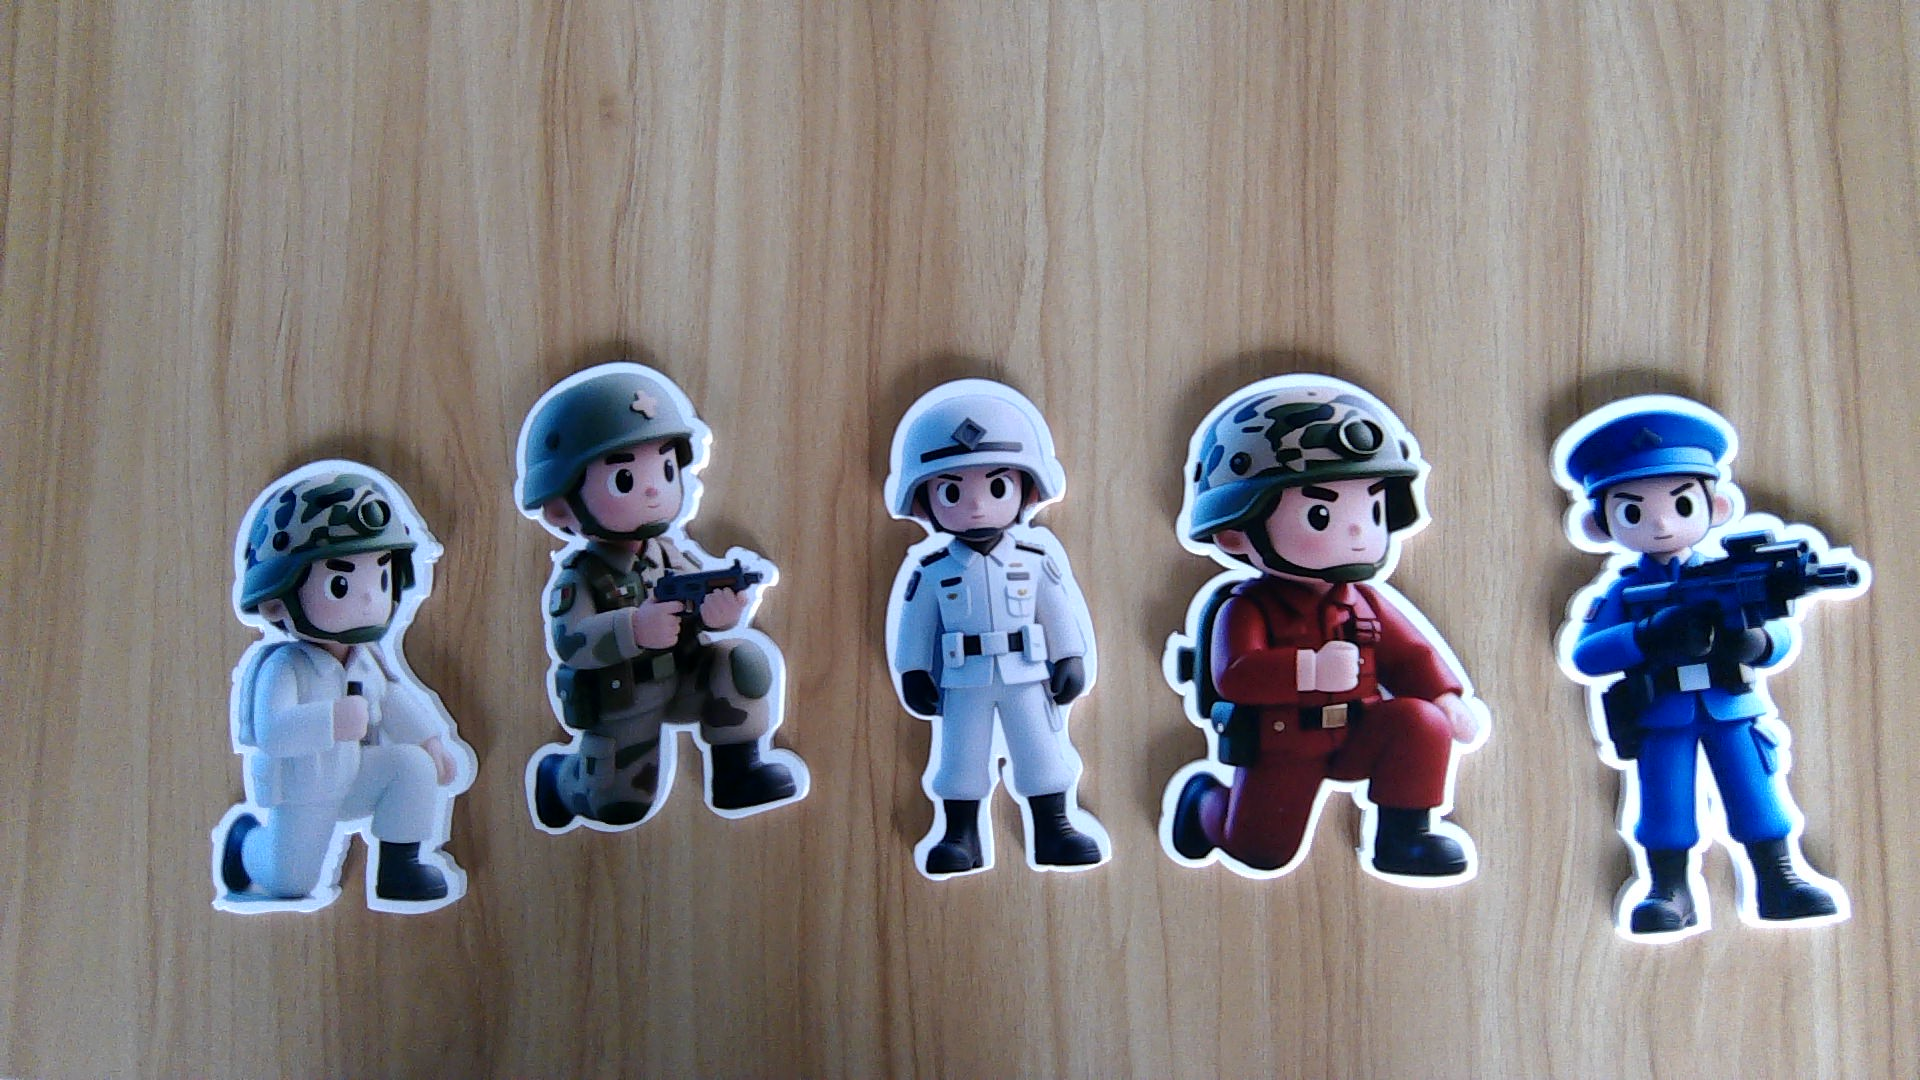人质: (876, 531, 1116, 880), (200, 640, 483, 915)
友军: (517, 539, 810, 831)
敌人1: (1151, 574, 1499, 894)
敌人2: (1547, 553, 1874, 945)
